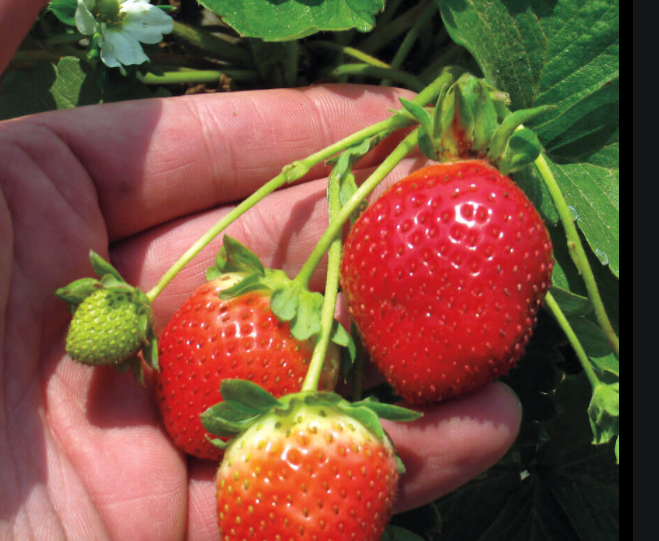ripe: (341, 157, 553, 407), (156, 262, 343, 459), (209, 407, 400, 537)
unripe: (55, 278, 150, 369)
